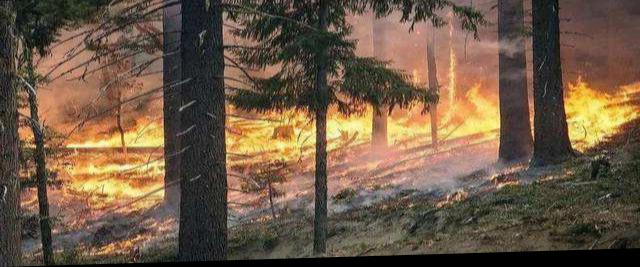fire: (224, 60, 502, 195), (64, 115, 166, 207), (558, 68, 638, 155)
